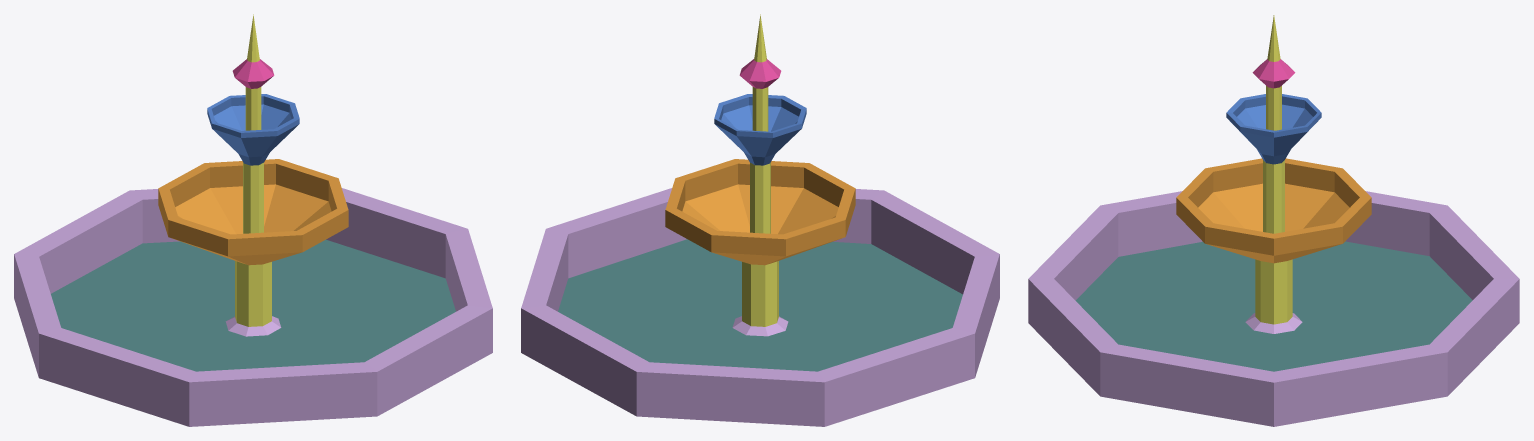
The model's file is fountainNaomiJongsma.fbx.
3 views of the same model, side by side, from view 1: azimuth 30°, elevation 25°; view 2: azimuth 150°, elevation 25°; view 3: azimuth 270°, elevation 25° (orthographic).
Parts seen in each view (by area): view 1: fountain; view 2: fountain; view 3: fountain.
Boxes of the visible parts, left/top/right/bottom form: fountain: left=14, top=14, right=492, bottom=426; fountain: left=521, top=14, right=999, bottom=426; fountain: left=1028, top=15, right=1519, bottom=426.
Bounding box in the file's own units: 800 × 555 × 800.
Materials: 1 (1 with a texture image).
